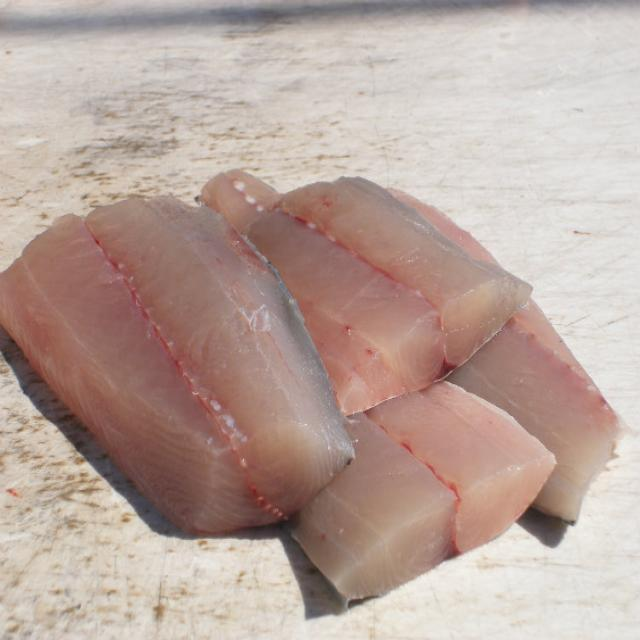Mackerel: (0, 197, 354, 533), (202, 172, 531, 414), (449, 300, 624, 521), (369, 382, 555, 554), (289, 414, 455, 599)
